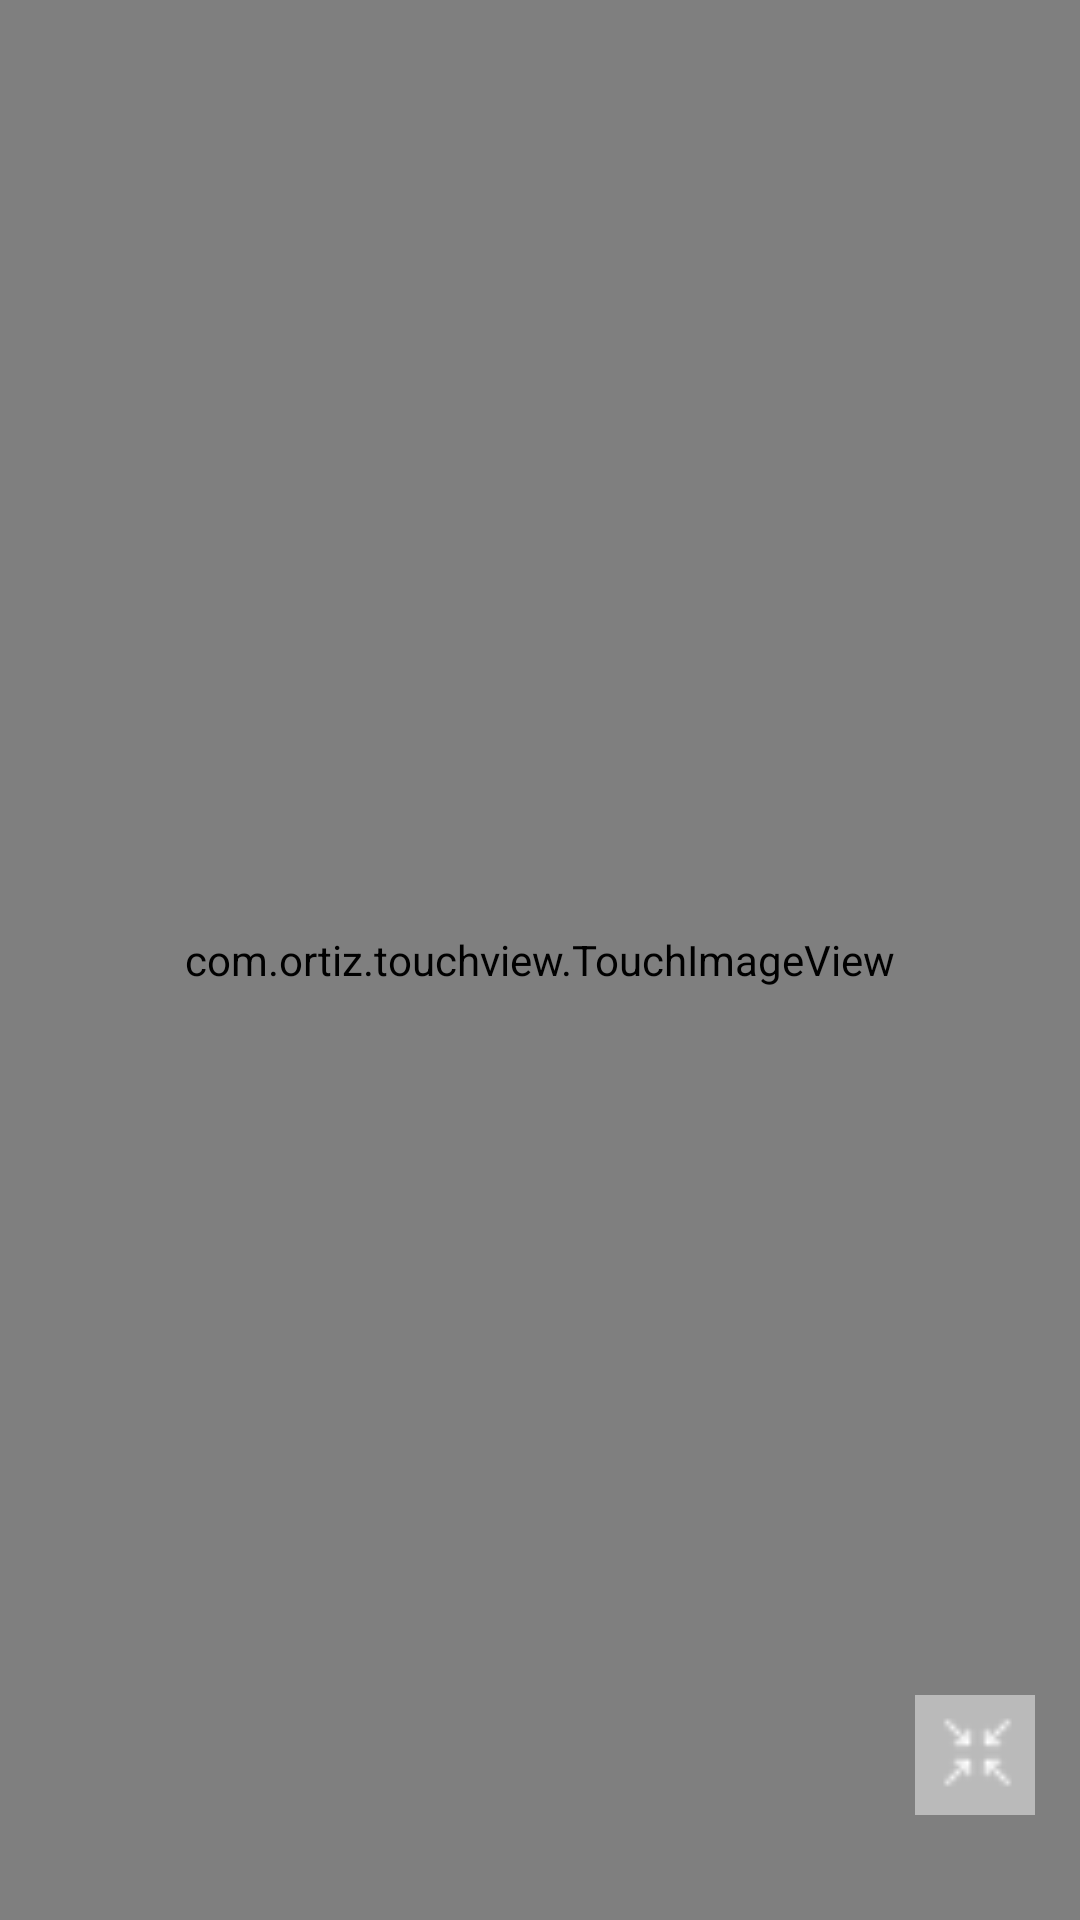

Where to tap for icons on this 1080x1920 app screen, as (x=x, y=y):
Zoom out: (x=975, y=1755)
